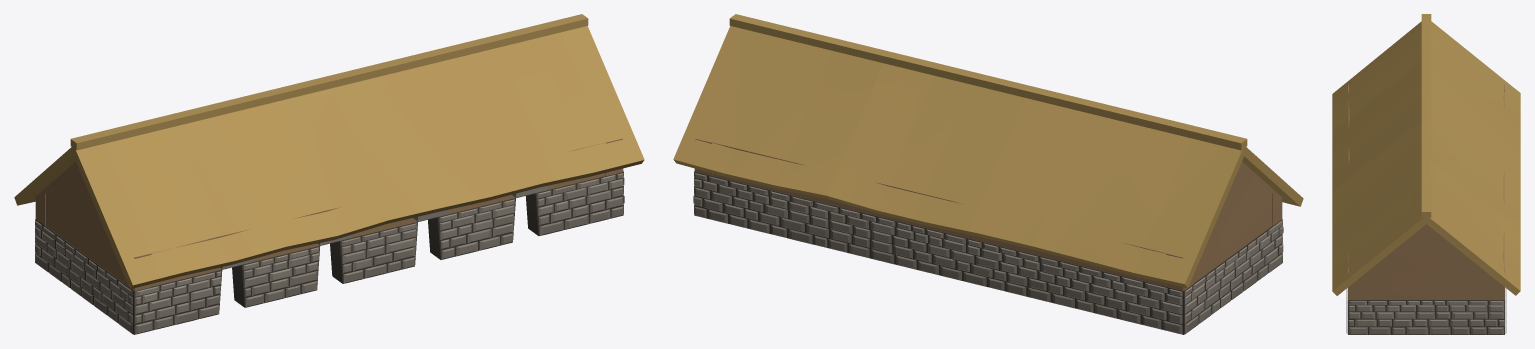
The model's file is cusco_kallanka_lod0.glb.
3 renders of one model, left to right at view 1: azimuth 30°, elevation 25°; view 2: azimuth 150°, elevation 25°; view 3: azimuth 270°, elevation 25°, orthographic. The views are drawn at different scales.
Visible parts, largest first — view 1: GEO-Arch_cusco_kallanka_LOD0; view 2: GEO-Arch_cusco_kallanka_LOD0; view 3: GEO-Arch_cusco_kallanka_LOD0.
Boxes of the visible parts, x1,y1,x2,y2 form: GEO-Arch_cusco_kallanka_LOD0: [14, 14, 644, 334]; GEO-Arch_cusco_kallanka_LOD0: [673, 14, 1303, 334]; GEO-Arch_cusco_kallanka_LOD0: [1332, 14, 1520, 334].
Size of the model in its own units: 20.9 by 6.26 by 8.4.
